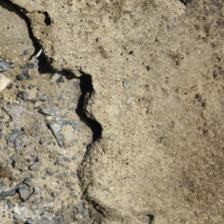Crack: (3, 1, 107, 219)
